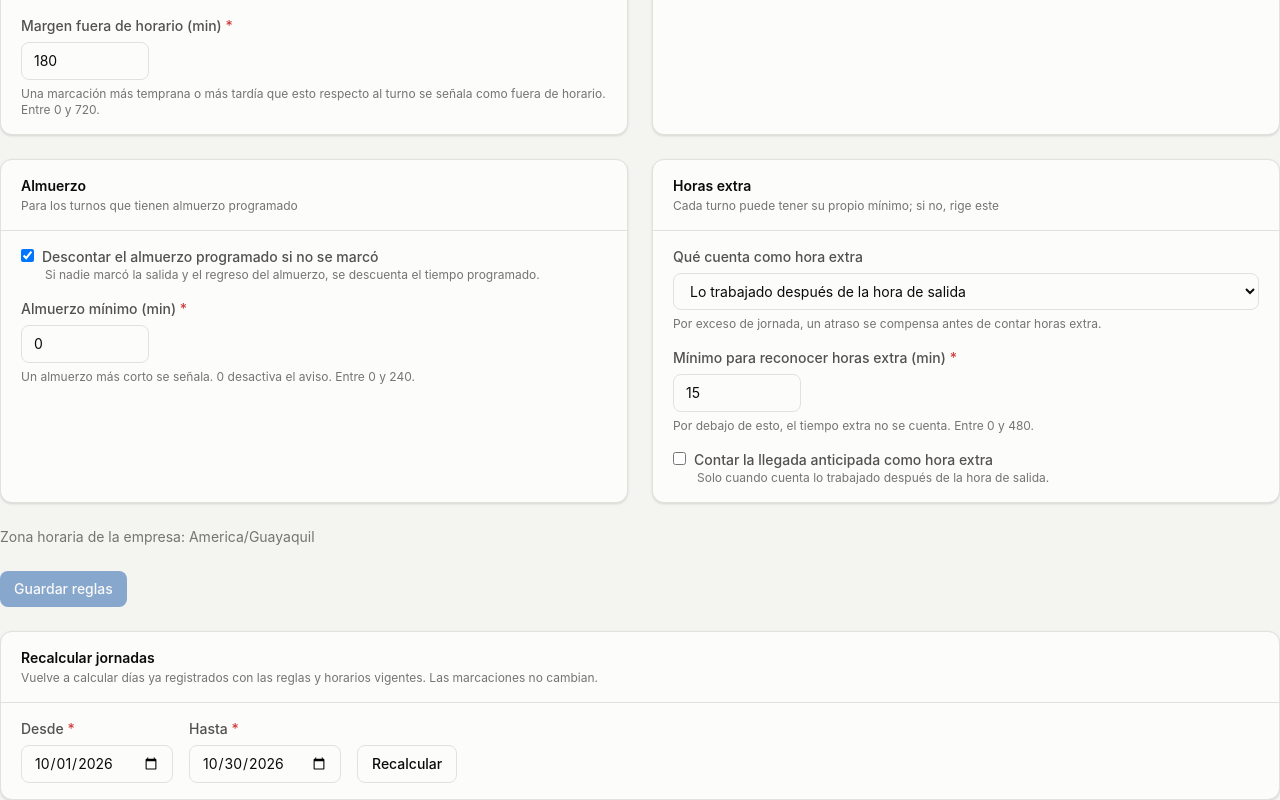
Test: SettingsPage › recomputes a range of at most 31 days
This screenshot has width=1280, height=800.
(page scrolled)
Type "2026-08-01" into the date field labelled "Desde". click: (97,764)
box: [21,745,173,783]
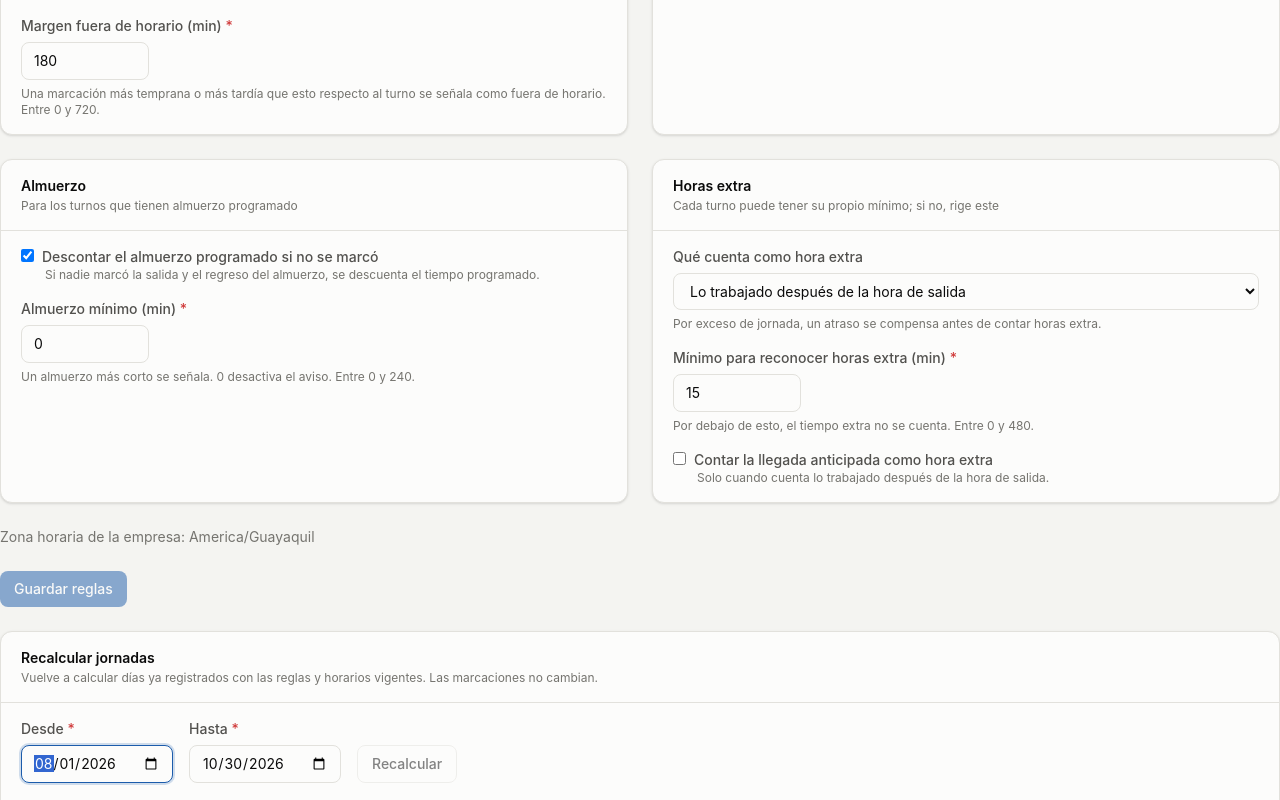
Type "2026-09-15" into the date field labelled "Hasta". click: (265,764)
box: [189,745,341,783]
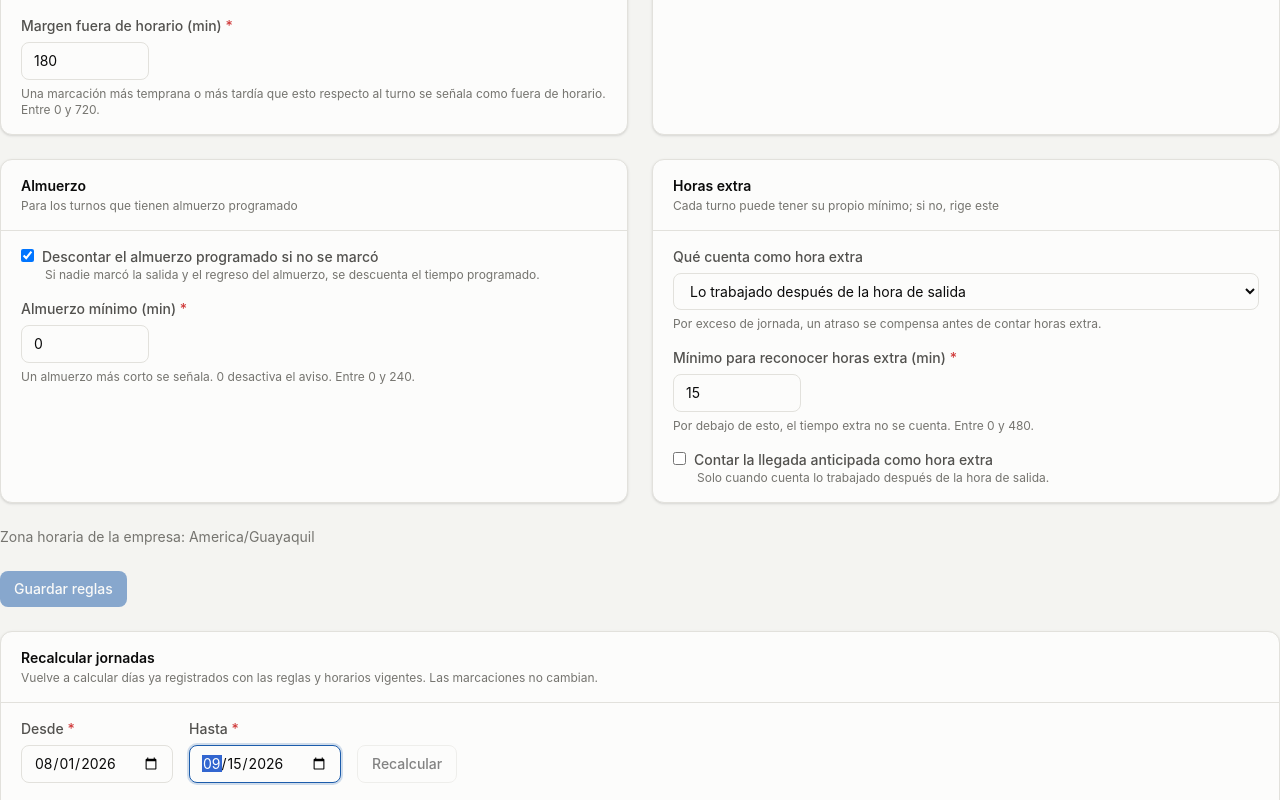
Result: the button "Recalcular" is disabled at [357,745,457,783]
Type "2026-08-31" into the date field labelled "Hasta". click: (265,764)
box: [189,745,341,783]
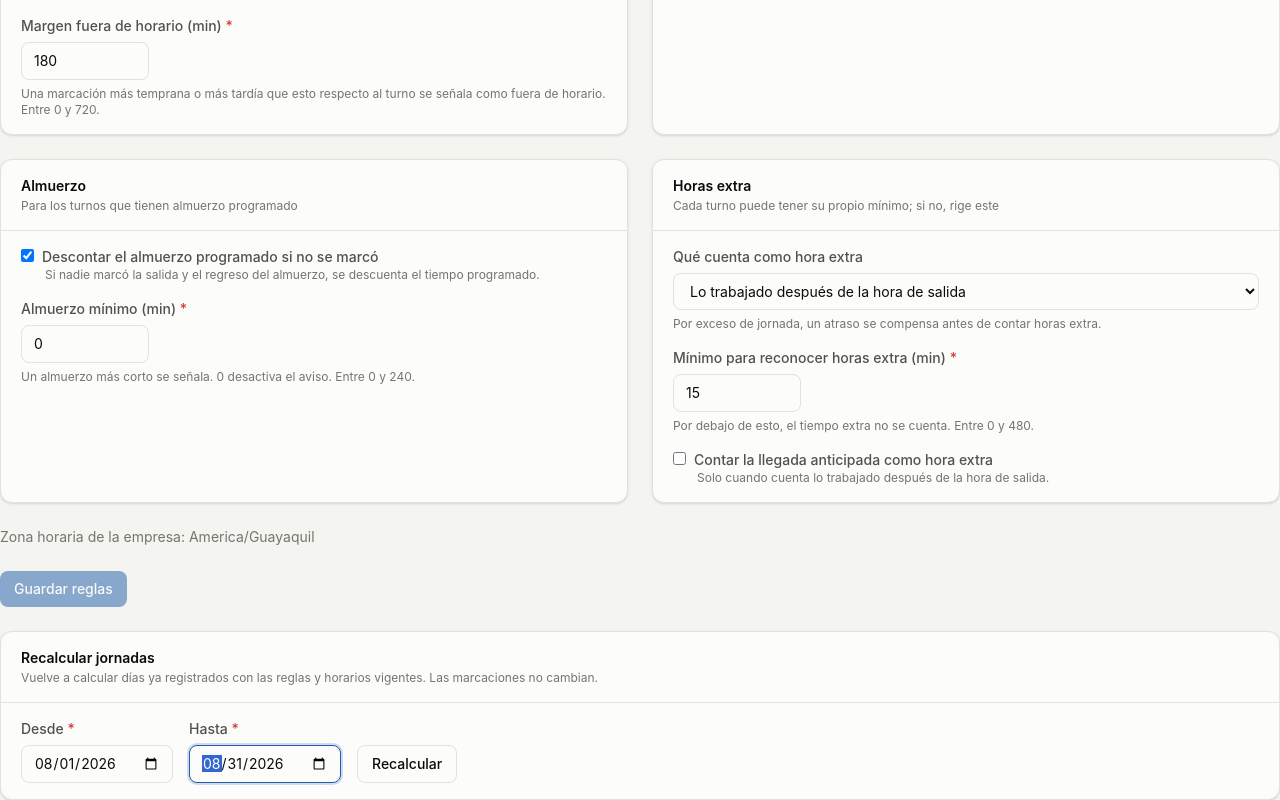
Click the button "Recalcular". click: (407,764)
box: [357,745,457,783]
(page scrolled)
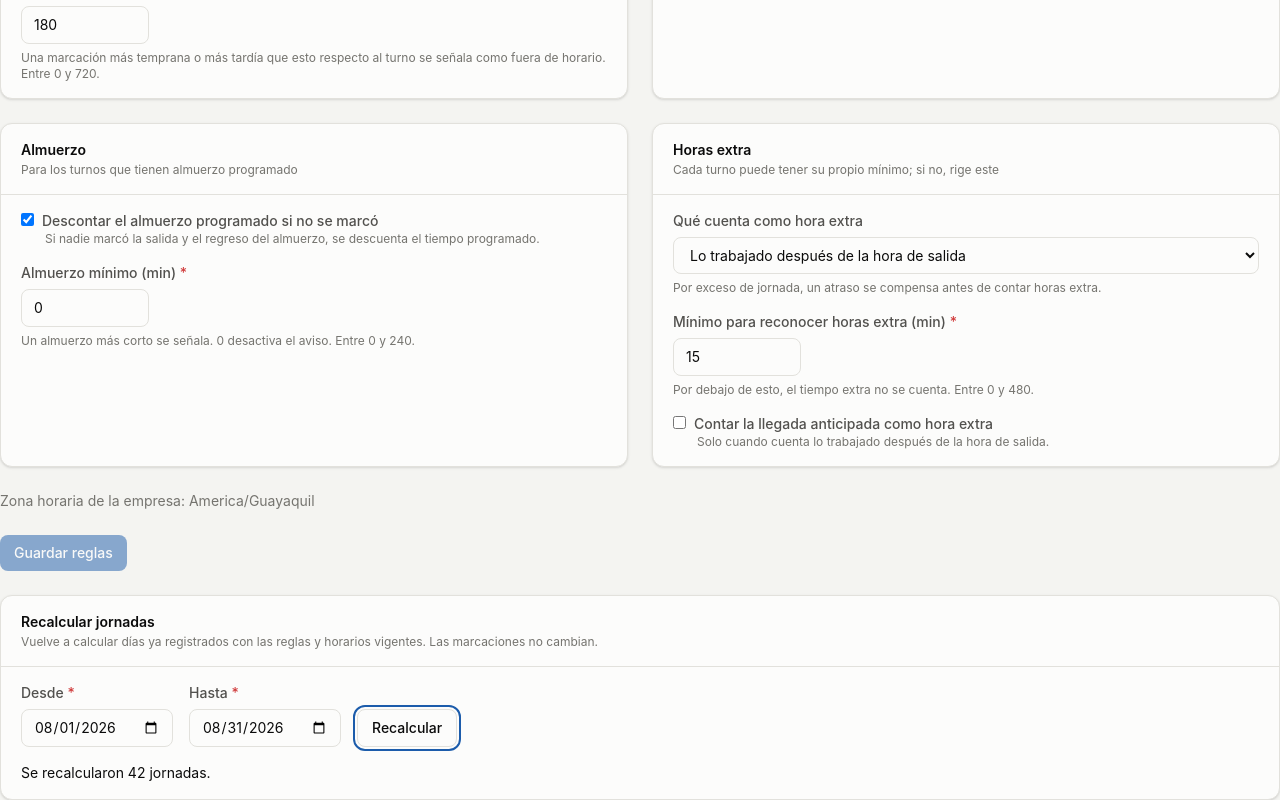
Result: the message reads "Se recalcularon 42 jornadas." at [21,764,211,781]
